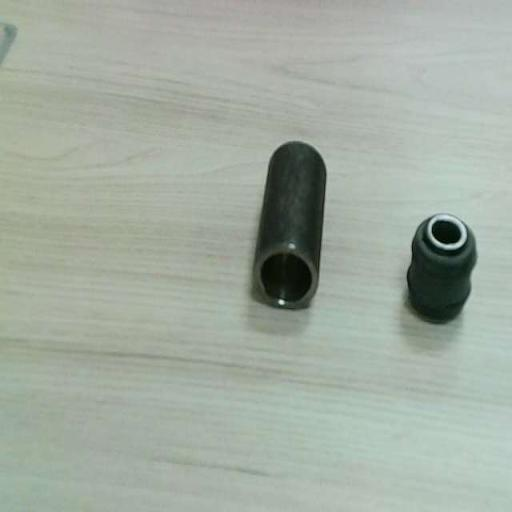peca: (254, 141, 326, 308), (406, 213, 477, 319)
